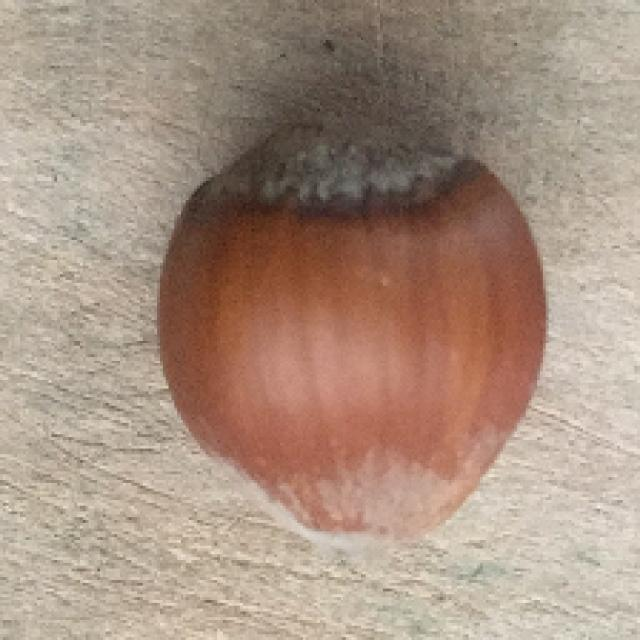qualityHazelnut: (153, 117, 552, 576)
